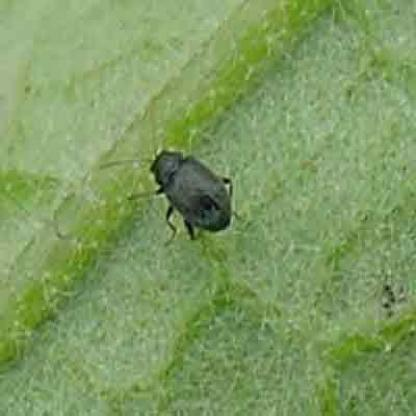beetle: (136, 146, 237, 230)
